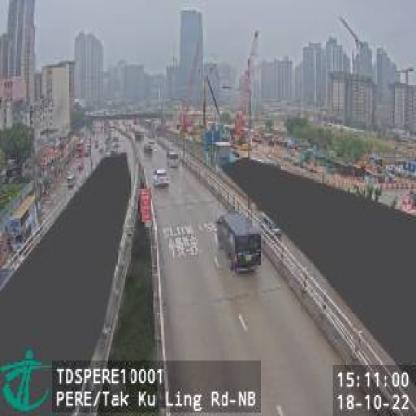Bus: (6, 194, 41, 253)
Car: (215, 210, 262, 277), (153, 166, 170, 190), (167, 148, 181, 168), (65, 172, 78, 190)
